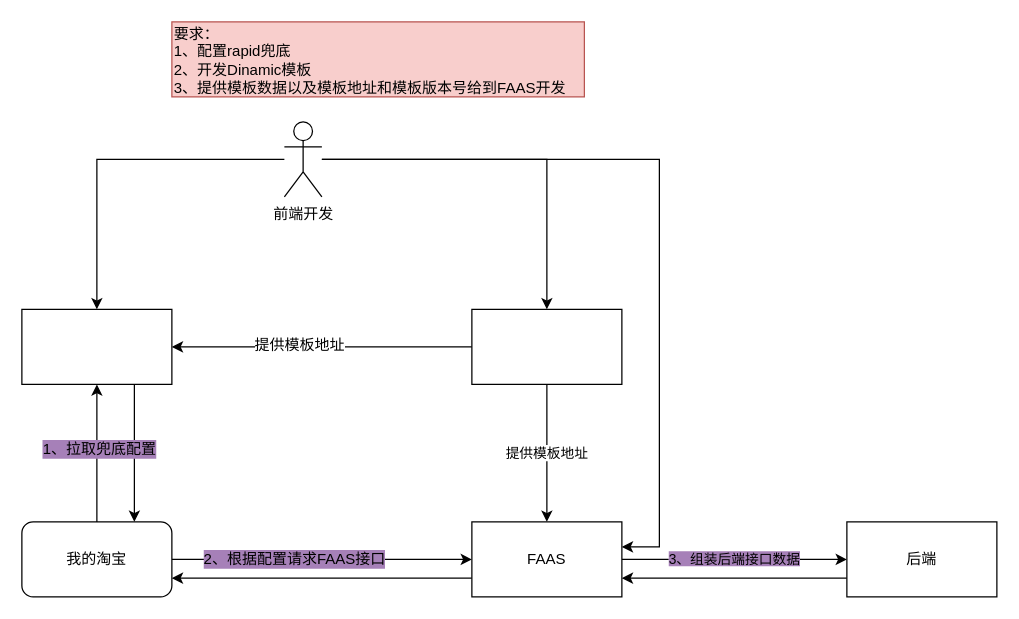
Image size: 1019x619. Some labels were removed from this diagram. The shapes that lost their labels are listed below. From the top down, each one's box as (x1, y1, x2, y2) in pixels, then its label:
(21, 308, 172, 384): rapid
(471, 308, 622, 384): Dinamic模板
